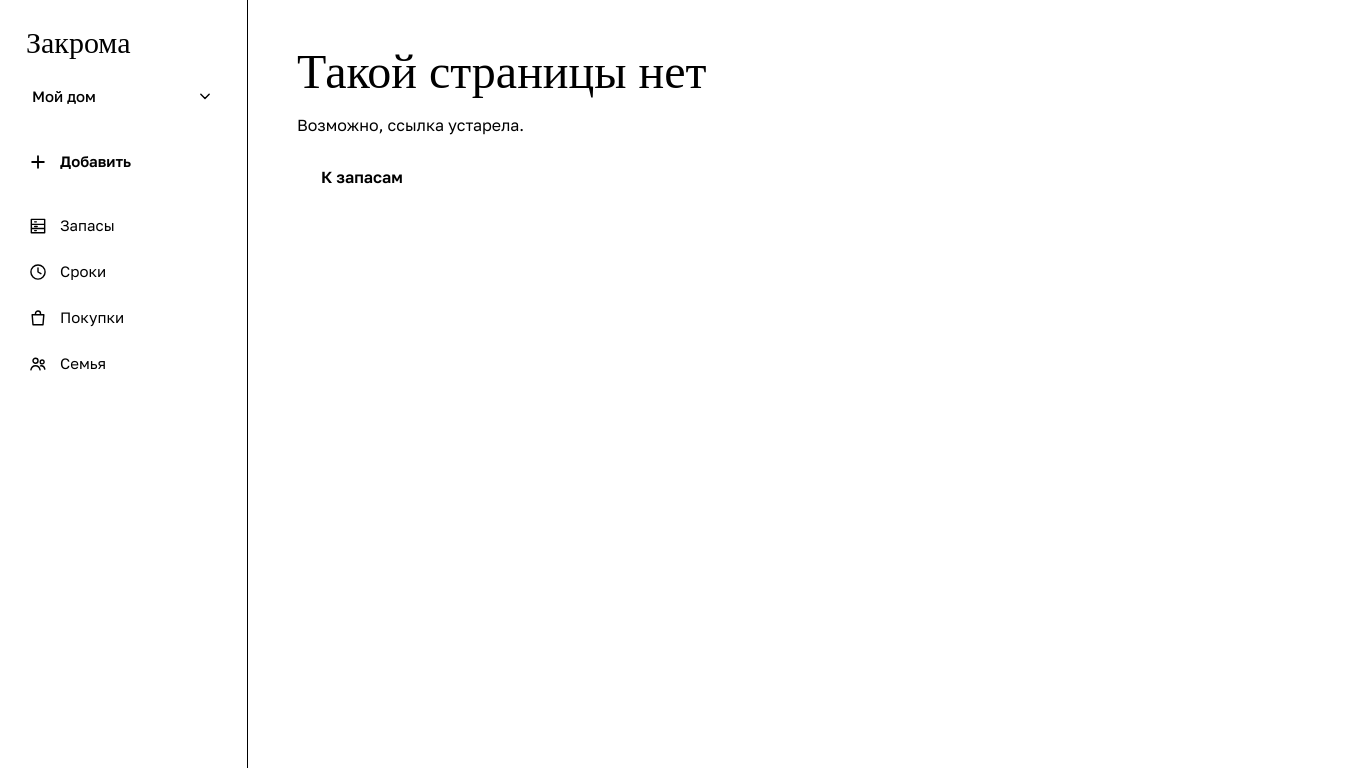
Test: app shell (AC-3) › shows «not found» with a way back for an unknown path
The width and height of the screenshot is (1366, 768).
Expected: the heading "Такой страницы нет" is shown, [297,48,706,97]
Click the link "К запасам".
click(362, 177)  # box [321,167,403,187]
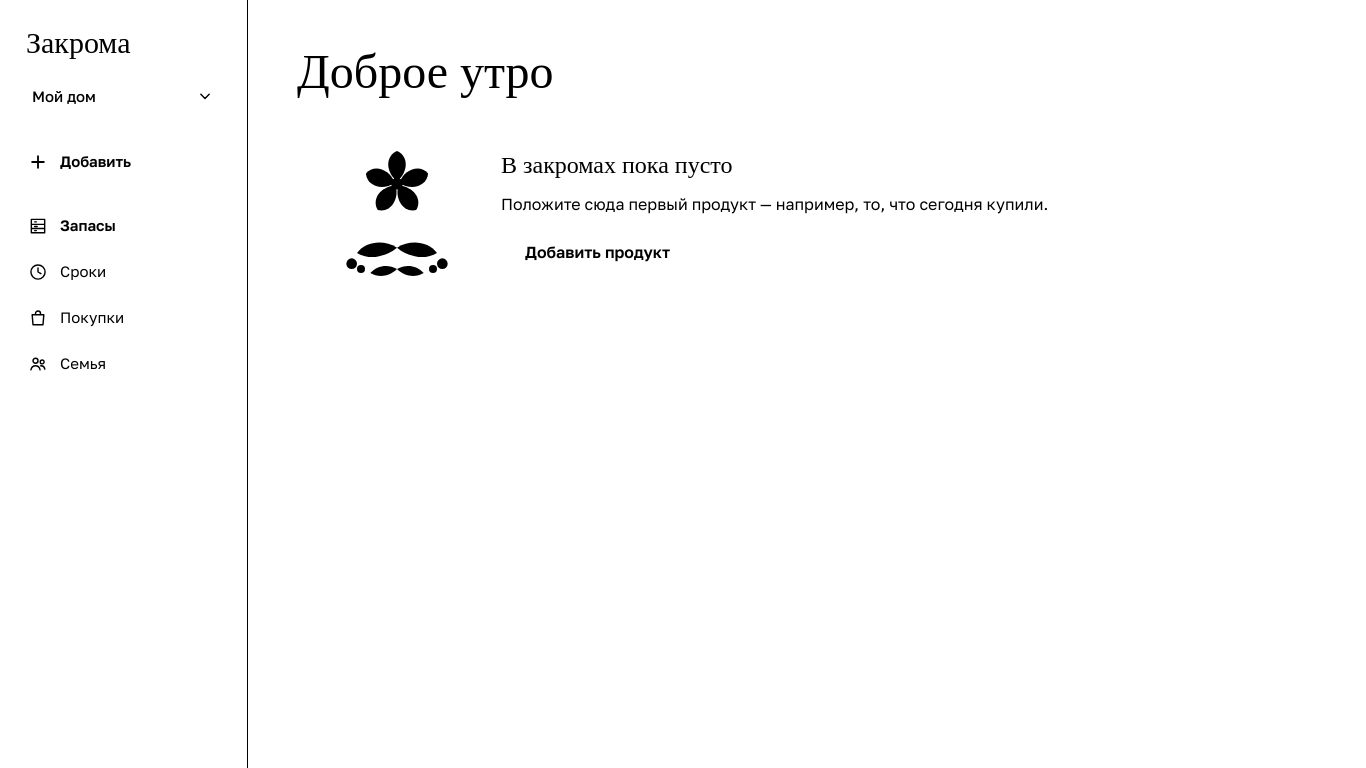
Now the heading "Доброе утро" is shown, box [297,45,554,98]
